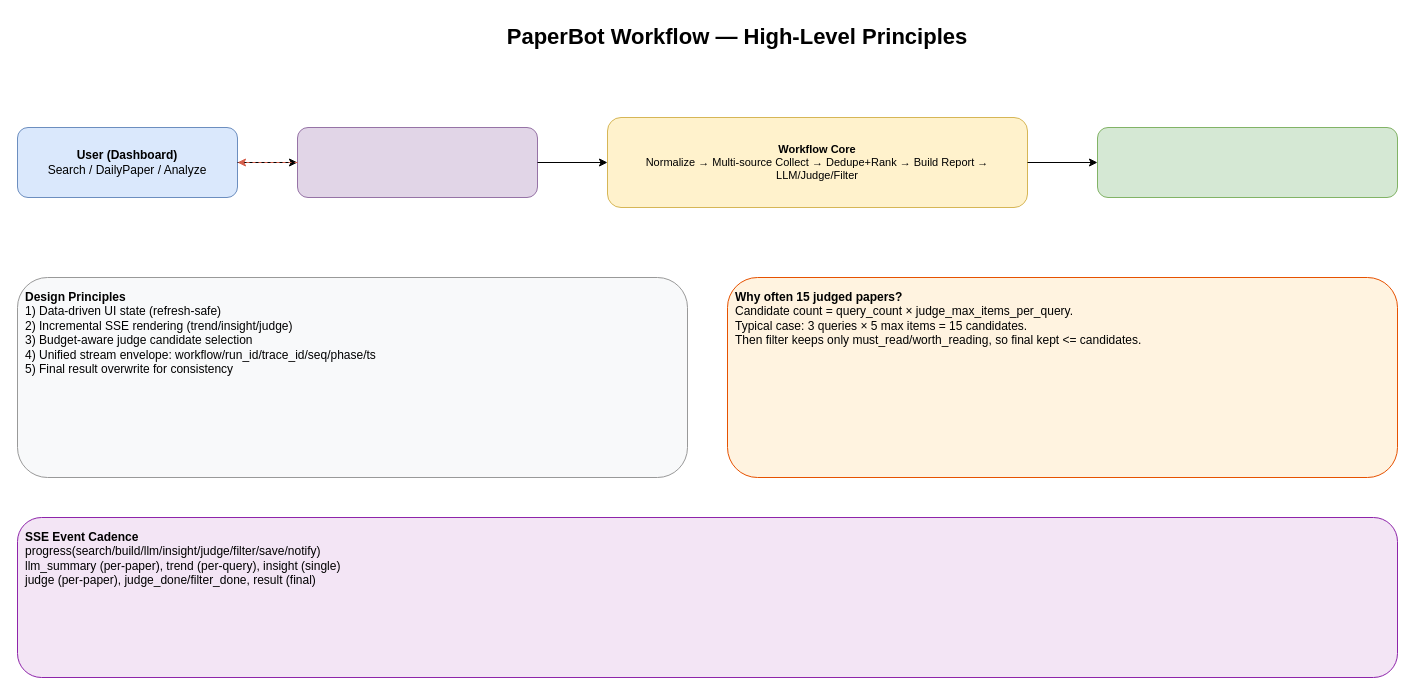
This 1415x695 diagram has some shape labels left out. Each missing label, with the box of its shape:
API Layer /search /daily /analyze (SSE): (296, 126, 538, 198)
Persistence Paper Registry + Judge Scores + Repo Enrichment: (1096, 126, 1398, 198)
